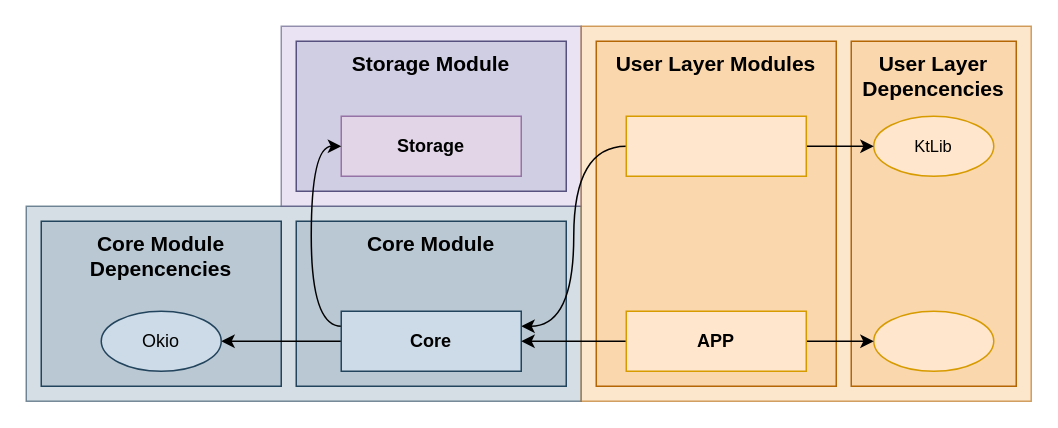
This 1058x428 diagram has some shape labels left out. Here are the shapes that lost their labels. From the top down, the centre of each, then its label:
(715,145): CLI
(933,340): Compose
